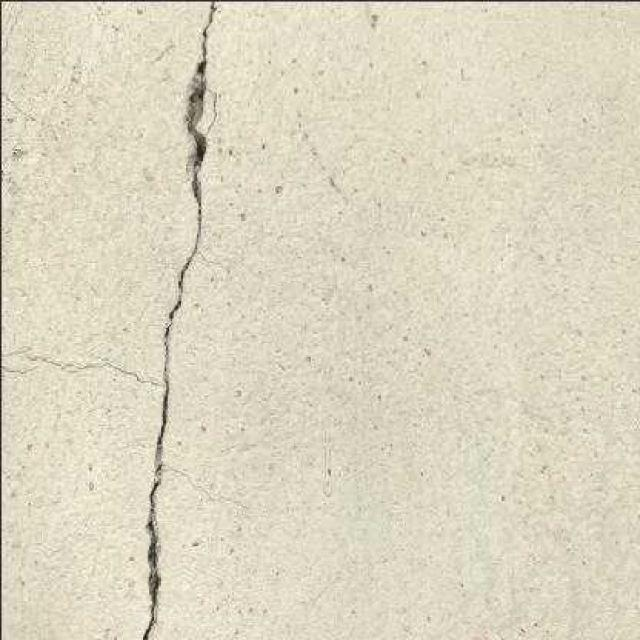D00: (141, 0, 214, 640)
